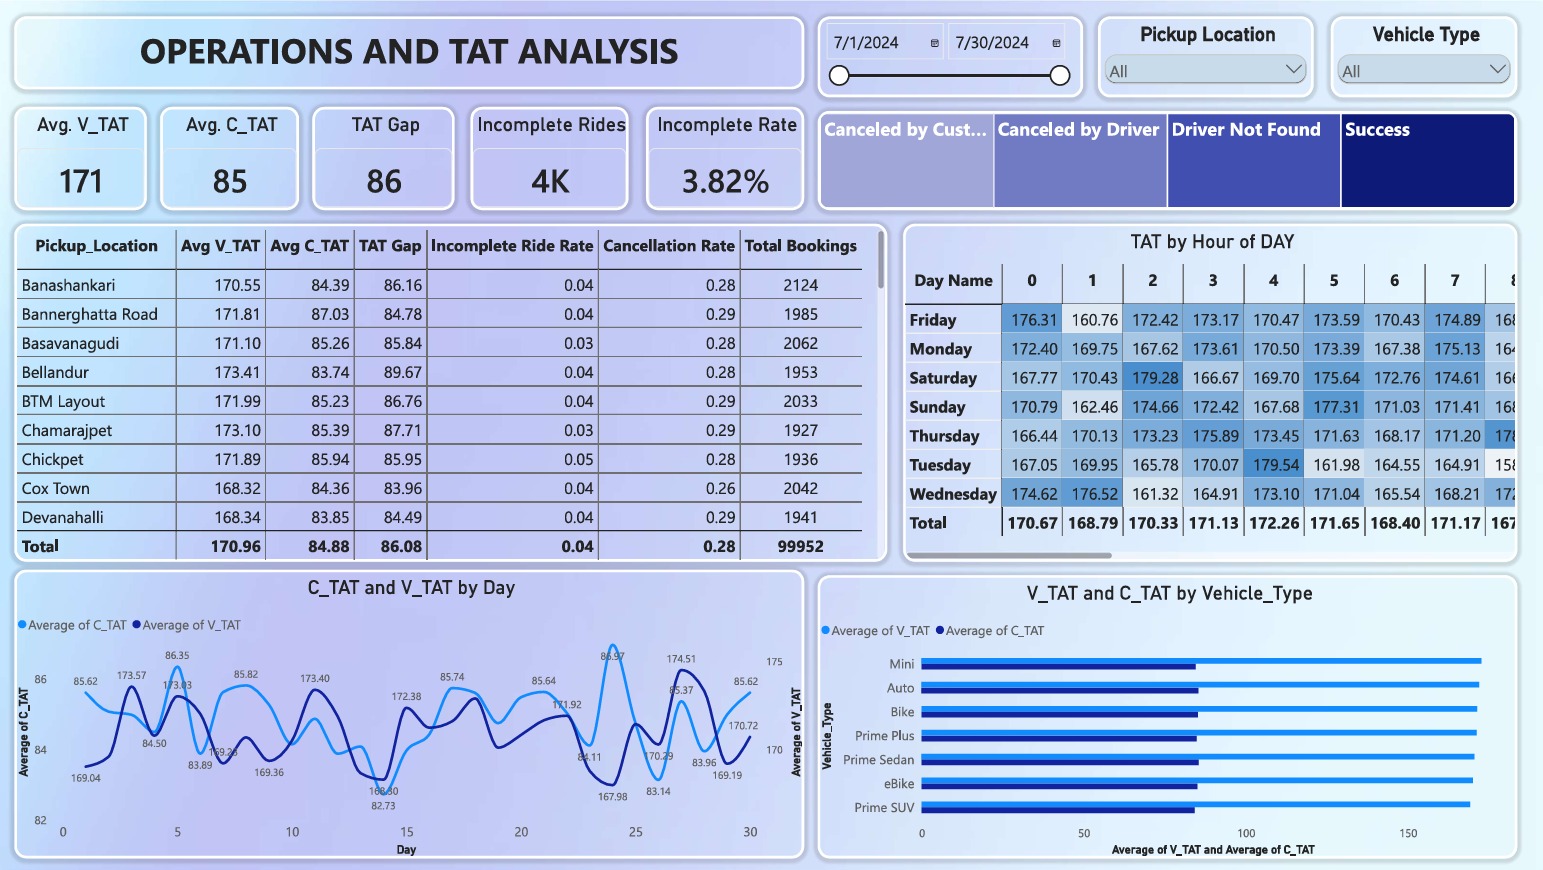

The page's visual inventory and layout, read from the dashboard file:
{"tool":"powerbi","page":{"name":"Operations and TAT","canvas":[1920,1080],"ordinal":3},"visuals":[{"type":"slicer","title":"DATE","fields":{"Values":["Bookings.Date"]},"box":[1017.2,19.6,328.4,100.5],"z":0},{"type":"slicer","title":"Pickup Location","fields":{"Values":["Bookings.Pickup_Location"]},"box":[1365.3,19.6,267.2,100.5],"z":1000},{"type":"slicer","title":"Vehicle Type","fields":{"Values":["Bookings.Vehicle_Type"]},"box":[1654.5,19.6,230.4,100.5],"z":2000},{"type":"treemap","fields":{"Group":["Bookings.Booking_Status"],"Values":["Count(Bookings.Booking_Status)"]},"box":[1017.2,137.3,867.7,122.6],"z":3000},{"type":"textbox","box":[19.6,19.6,980.4,90.7],"z":4000},{"type":"cardVisual","title":"Avg. V_TAT","fields":{"Data":["Bookings.Avg V_TAT"]},"box":[19.6,132.4,164.2,127.5],"z":5000},{"type":"cardVisual","title":"Avg. C_TAT","fields":{"Data":["Bookings.Avg C_TAT"]},"box":[201,132.4,171.6,127.5],"z":6000},{"type":"cardVisual","title":"TAT Gap","fields":{"Data":["Bookings.TAT Gap"]},"box":[389.7,132.4,176.5,127.5],"z":7000},{"type":"cardVisual","title":"Incomplete Rides","fields":{"Data":["Bookings.Total Incomplete Rides"]},"box":[585.8,132.4,196.1,127.5],"z":8000},{"type":"cardVisual","title":"Incomplete Rate","fields":{"Data":["Bookings.Incomplete Ride Rate"]},"box":[804,132.4,196.1,127.5],"z":9000},{"type":"lineChart","title":"C_TAT and V_TAT by Day","fields":{"Category":["Bookings.Date.Variation.Date Hierarchy.Day"],"Y":["Avg(Bookings.C_TAT)"],"Y2":["Avg(Bookings.V_TAT)"]},"box":[19.6,705.9,980.4,357.9],"z":10000},{"type":"clusteredBarChart","title":"V_TAT and C_TAT by Vehicle_Type","fields":{"Category":["Bookings.Vehicle_Type"],"Y":["Avg(Bookings.V_TAT)","Avg(Bookings.C_TAT)"]},"box":[1017.2,713.3,867.7,350.5],"z":11000},{"type":"pivotTable","title":"TAT by Hour of DAY","fields":{"Columns":["Bookings.Booking_Hour"],"Rows":["Bookings.Day Name"],"Values":["Bookings.Avg V_TAT"]},"box":[1122.6,277,762.3,419.1],"z":12000},{"type":"tableEx","fields":{"Values":["Bookings.Pickup_Location","Bookings.Avg V_TAT","Bookings.Avg C_TAT","Bookings.TAT Gap","Bookings.Incomplete Ride Rate","Bookings.Cancellation Rate","Bookings.Total Bookings"]},"box":[19.6,277,1083.4,419.1],"z":13000}]}

Visuals, with their boxes in screenshot pixels (x1, y1, x2, y2), scaled from the page's 1920x1080 canvas onto the 1543x870 screenshot:
"DATE" slicer: 817, 16, 1081, 97
"Pickup Location" slicer: 1097, 16, 1312, 97
"Vehicle Type" slicer: 1330, 16, 1515, 97
treemap - Bookings.Booking_Status x Count(Bookings.Booking_Status): 817, 111, 1515, 209
textbox: 16, 16, 804, 89
"Avg. V_TAT" cardVisual: 16, 107, 148, 209
"Avg. C_TAT" cardVisual: 162, 107, 299, 209
"TAT Gap" cardVisual: 313, 107, 455, 209
"Incomplete Rides" cardVisual: 471, 107, 628, 209
"Incomplete Rate" cardVisual: 646, 107, 804, 209
"C_TAT and V_TAT by Day" lineChart: 16, 569, 804, 857
"V_TAT and C_TAT by Vehicle_Type" clusteredBarChart: 817, 575, 1515, 857
"TAT by Hour of DAY" pivotTable: 902, 223, 1515, 561
tableEx - Bookings.Pickup_Location x Bookings.Avg V_TAT: 16, 223, 886, 561
